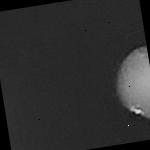colony: (101, 41, 150, 132)
